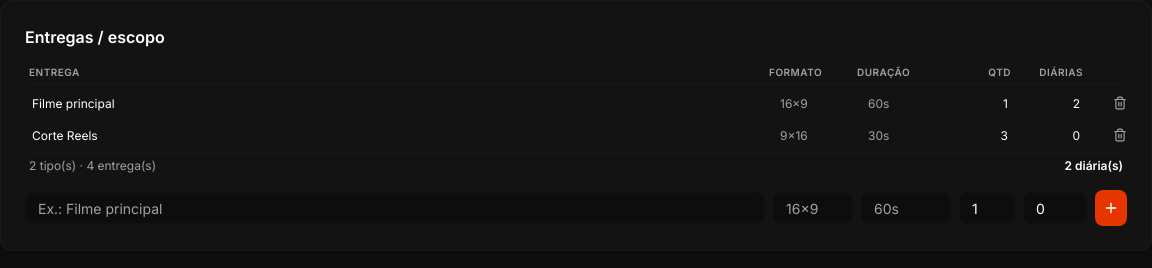
Test: EntregasSection — editar entregas › excluir tira só a linha certa
Click the 1st button titled "Excluir entrega": (1120, 103) [1113,96,1127,110]
Wait 400 ms
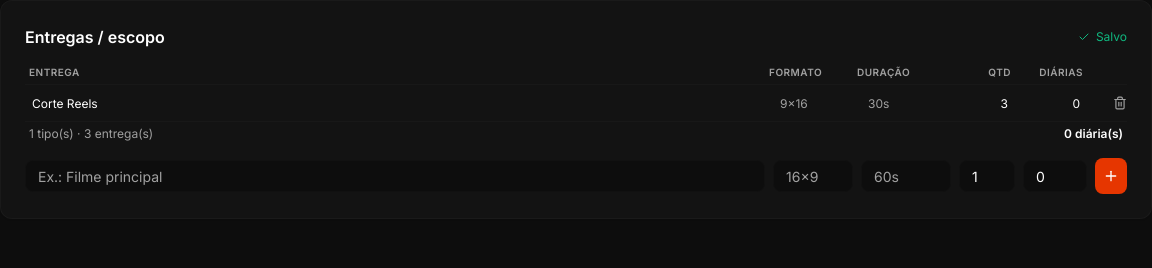
expect the 1st field showing "Corte Reels" is shown: met, box [25,89,765,117]
